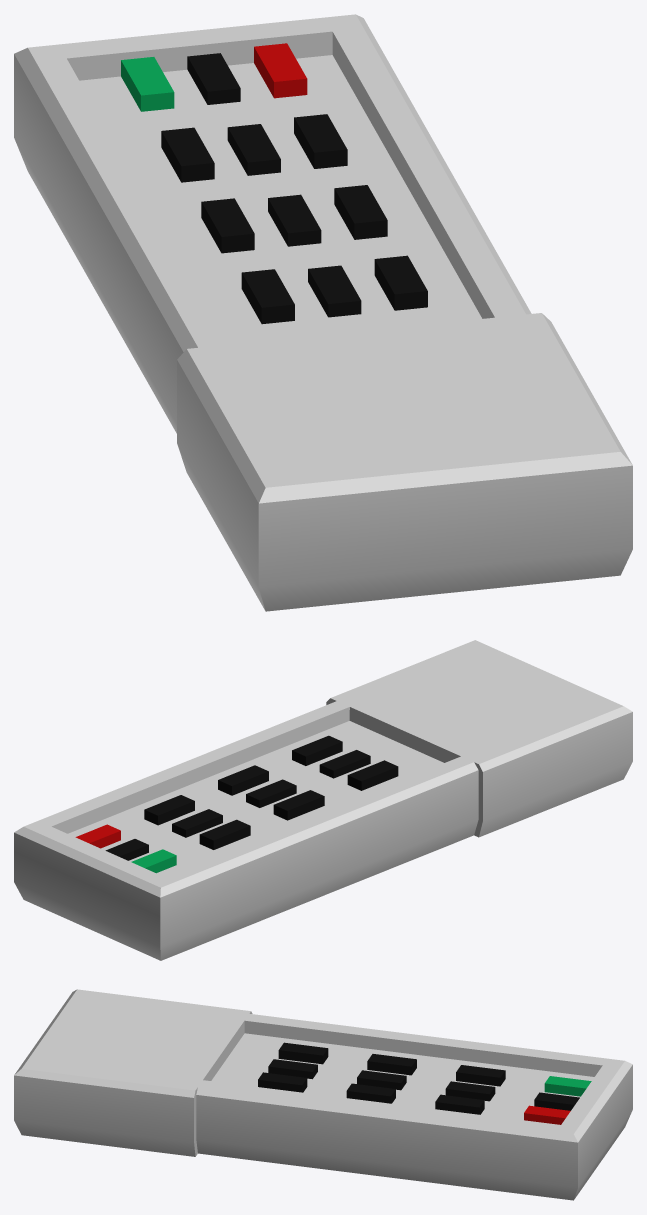
3 views of the same model, one above another, from view 1: azimuth 30°, elevation 25°; view 2: azimuth 150°, elevation 25°; view 3: azimuth 270°, elevation 25° (orthographic). The views are drawn at different scales.
Parts seen in each view (by area): view 1: Joint_0_Object_0, Joint_0_Object_1; view 2: Joint_0_Object_0, Joint_0_Object_1; view 3: Joint_0_Object_0, Joint_0_Object_1.
Part boxes in pixels (box(x1,y1,x2,y2)): Joint_0_Object_0: box(14, 14, 632, 611); Joint_0_Object_1: box(121, 43, 427, 324); Joint_0_Object_0: box(14, 640, 632, 960); Joint_0_Object_1: box(75, 735, 398, 873); Joint_0_Object_0: box(14, 989, 632, 1200); Joint_0_Object_1: box(258, 1042, 591, 1124).
Size of the model in its own units: 209 by 42.97 by 363.
